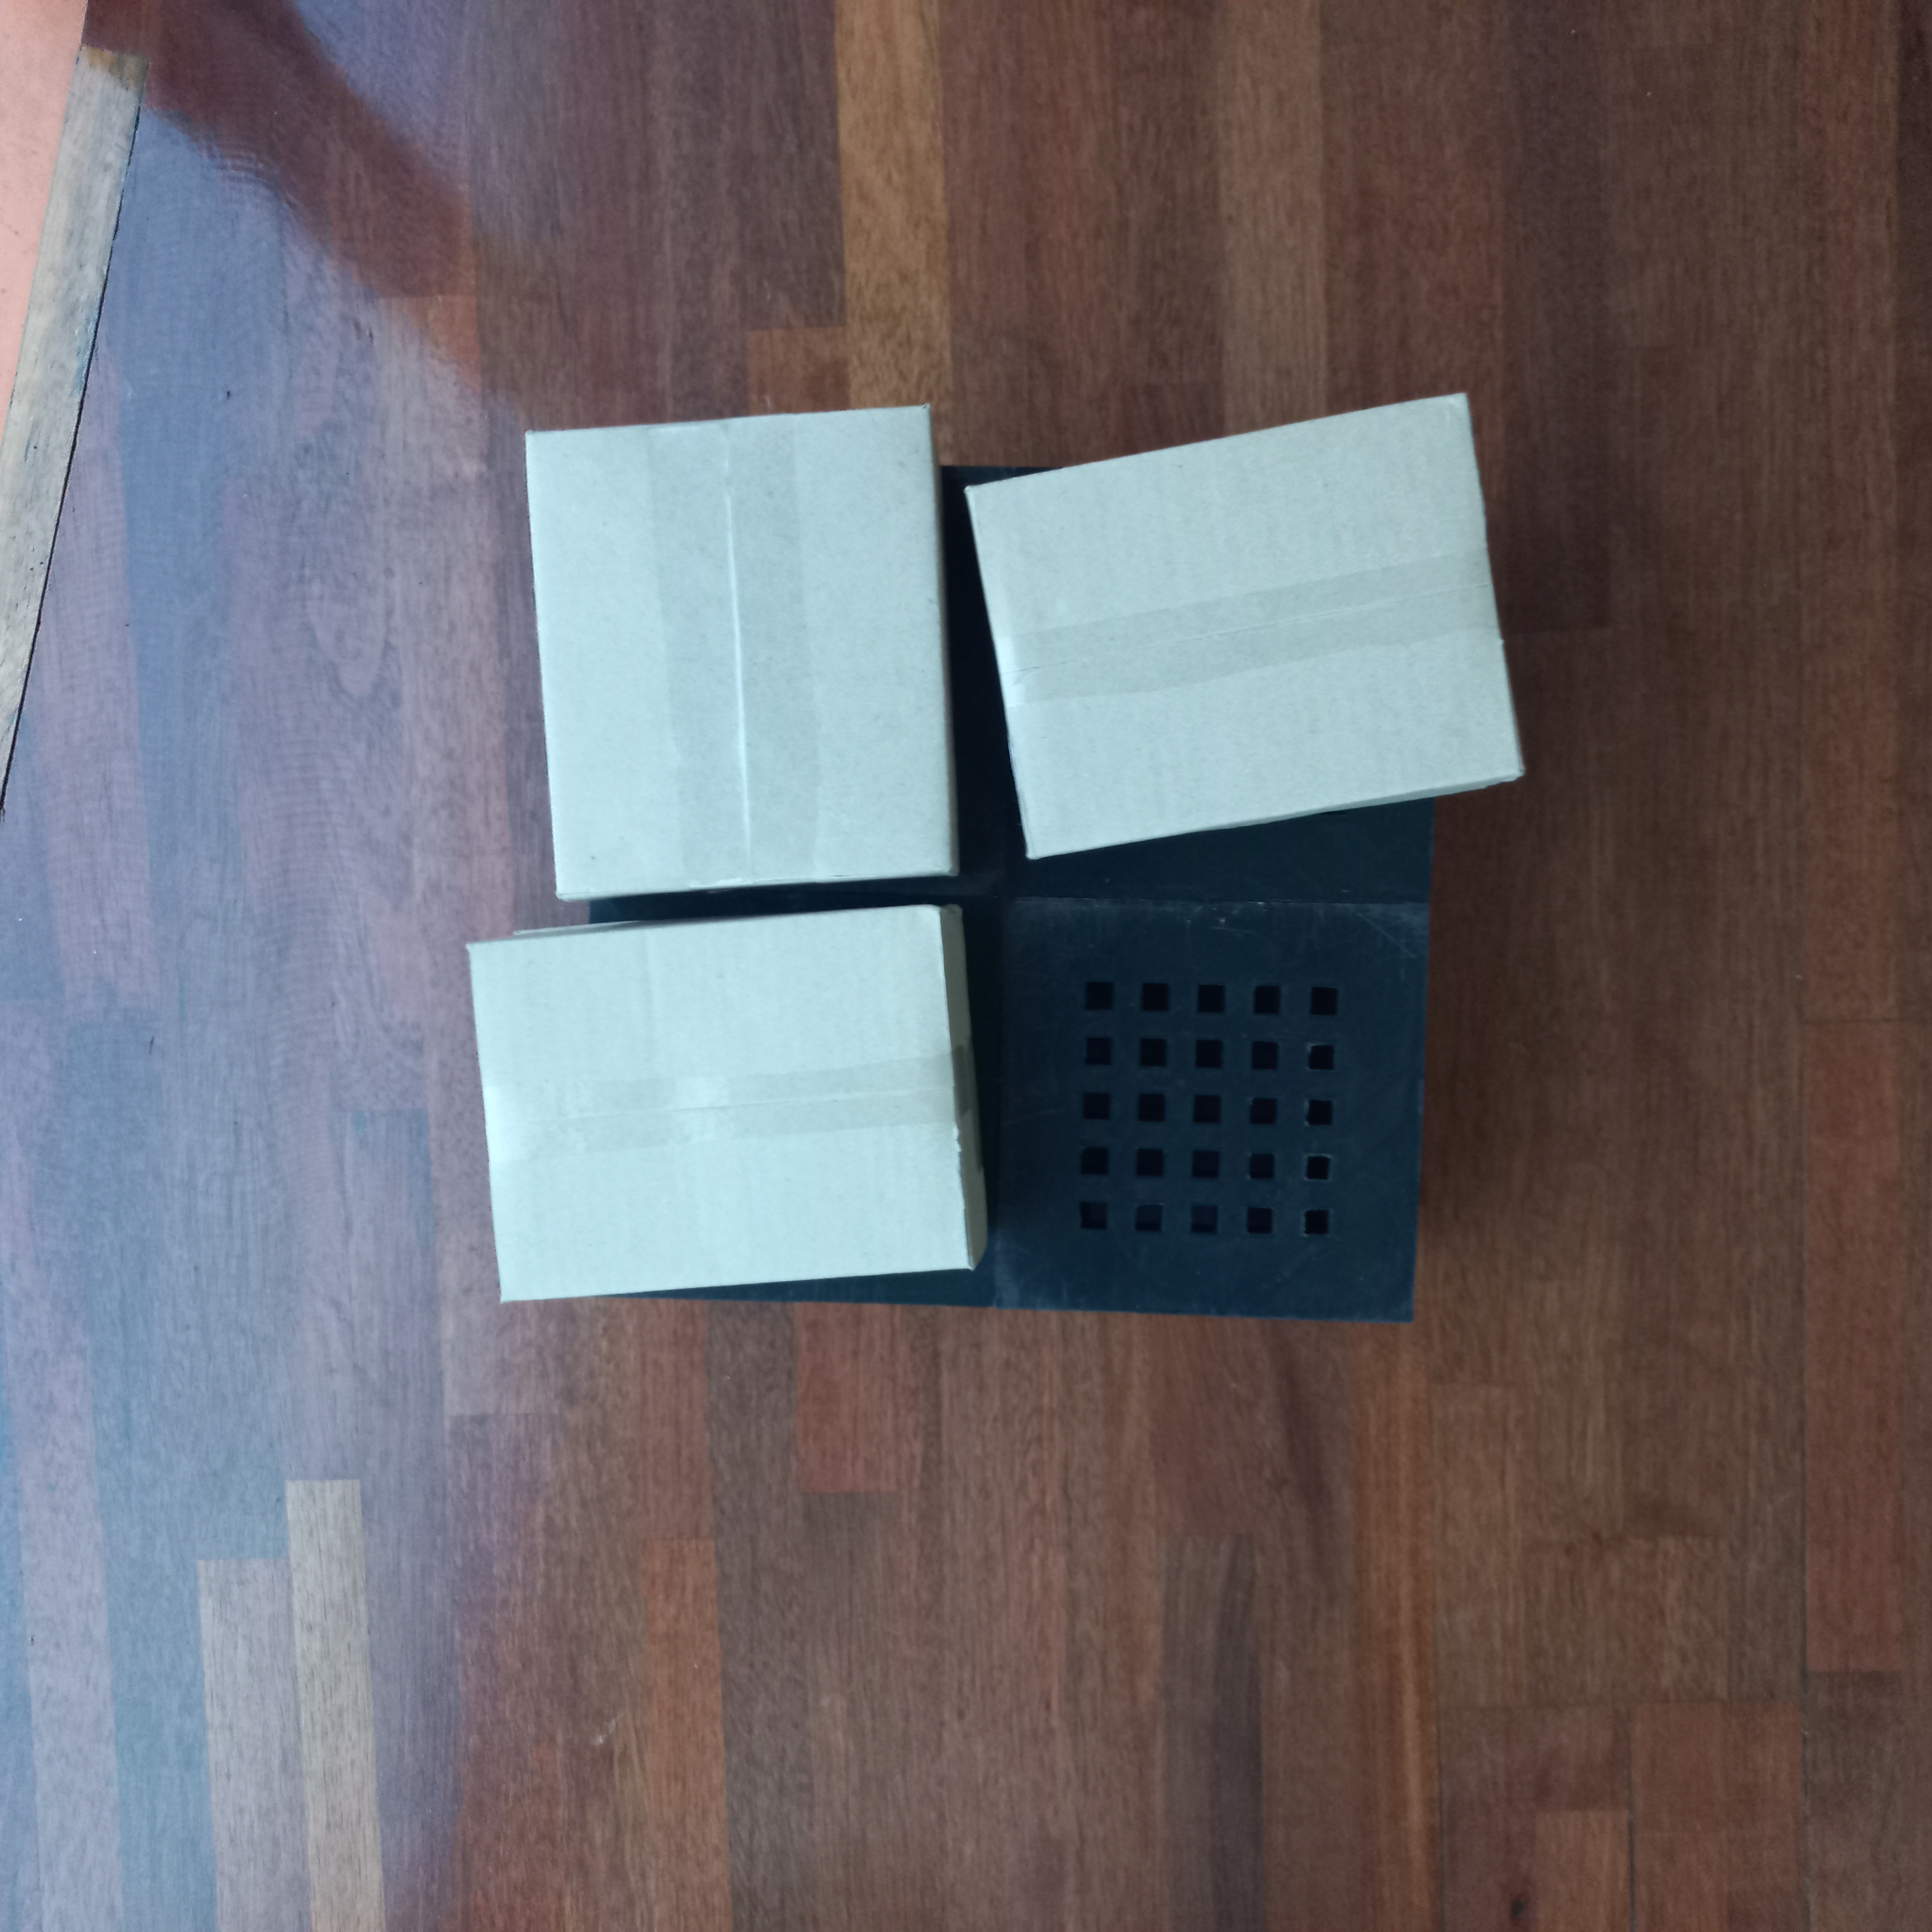box: (957, 386, 1525, 865), (517, 398, 959, 908), (462, 902, 973, 1307)
